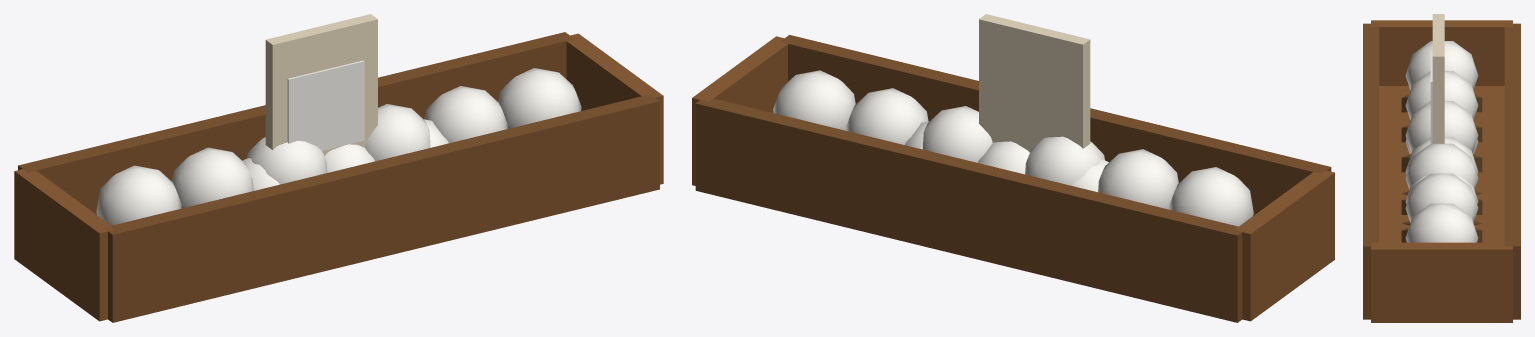
Rendered from Crop_Cotton.fbx.
The picture shows the model from 3 angles, left to right: view 1: azimuth 30°, elevation 25°; view 2: azimuth 150°, elevation 25°; view 3: azimuth 270°, elevation 25°; orthographic projection. The views are drawn at different scales.
Visible parts, largest first — view 1: Crop_Cotton__Stack, Crop_Cotton__Seed, Crop_Cotton; view 2: Crop_Cotton__Stack, Crop_Cotton__Seed, Crop_Cotton; view 3: Crop_Cotton__Stack, Crop_Cotton__Seed, Crop_Cotton.
Boxes of the visible parts, box(x1,y1,x2,y2) form: Crop_Cotton__Stack: box(14, 32, 663, 322); Crop_Cotton__Seed: box(265, 14, 377, 155); Crop_Cotton: box(242, 119, 448, 190); Crop_Cotton__Stack: box(692, 35, 1334, 322); Crop_Cotton__Seed: box(979, 14, 1090, 152); Crop_Cotton: box(905, 121, 1108, 192); Crop_Cotton__Stack: box(1363, 20, 1520, 322); Crop_Cotton__Seed: box(1430, 14, 1444, 143); Crop_Cotton: box(1402, 137, 1481, 224).
Size of the model in its own units: 0.268 by 0.09 by 0.078.
